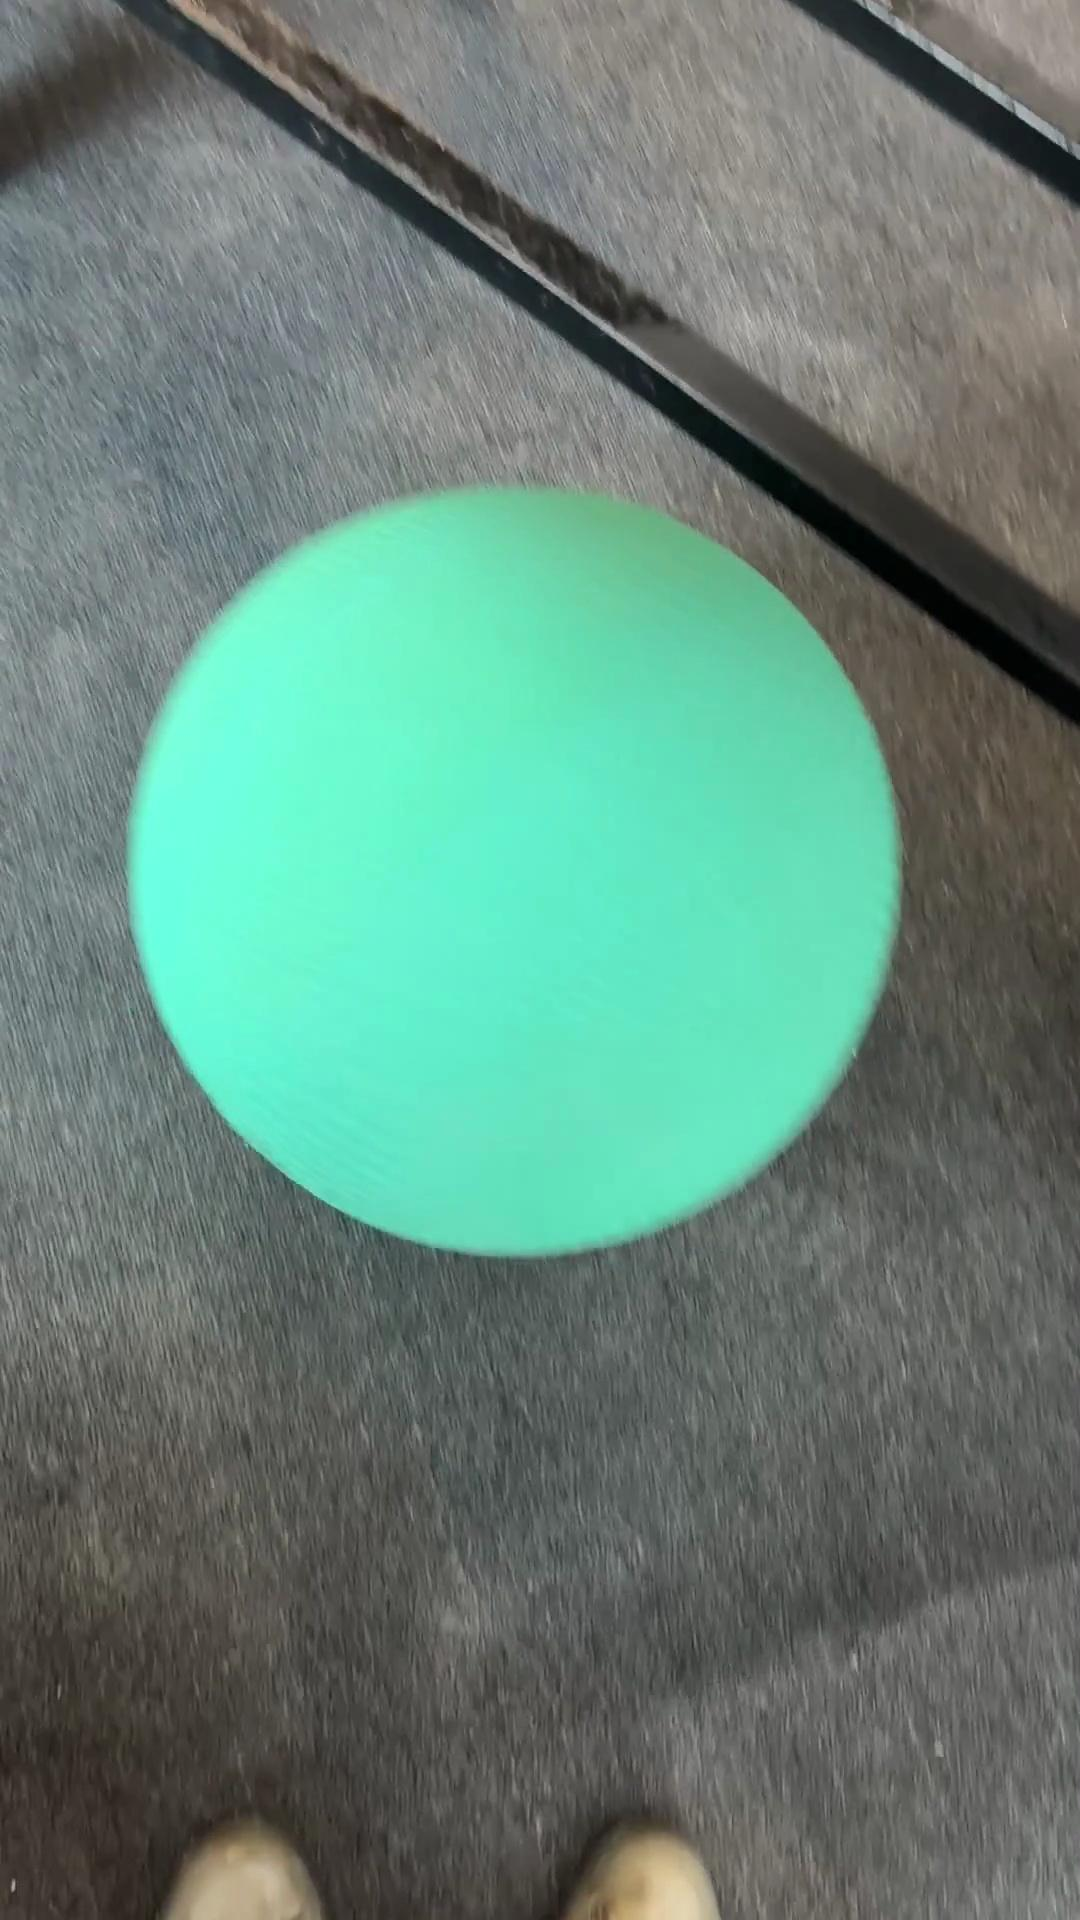ALGAE: (123, 481, 906, 1261)
